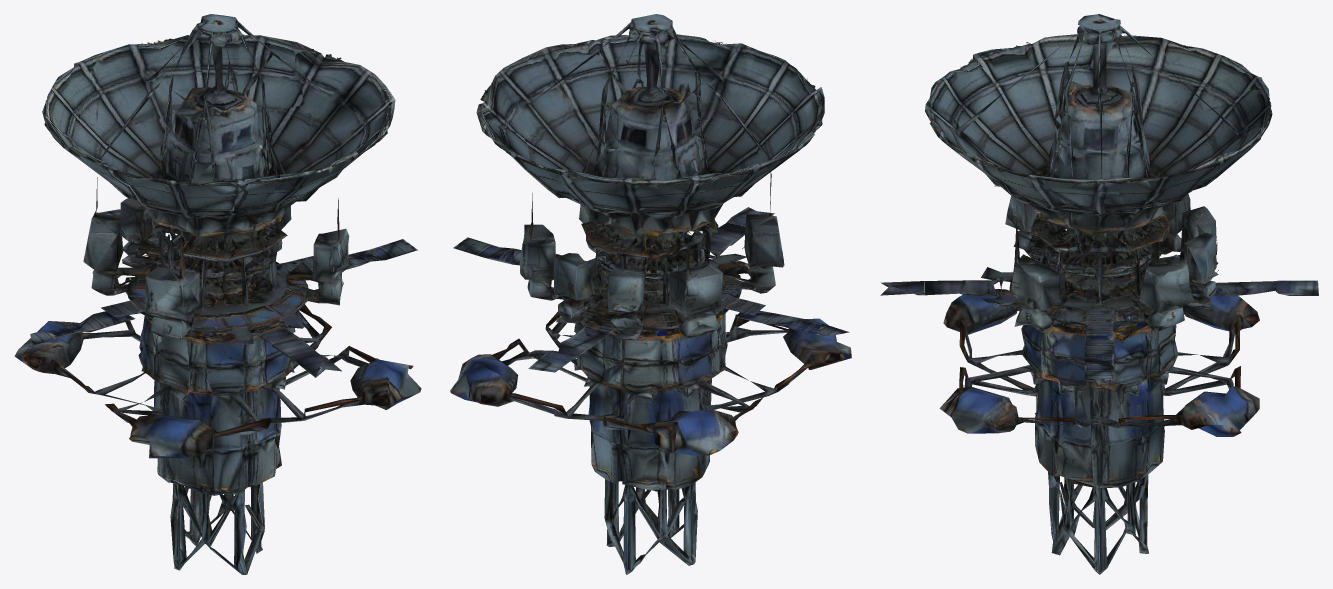
File: Terran_RelayStation.glb
3 renders of one model, left to right at view 1: azimuth 30°, elevation 25°; view 2: azimuth 150°, elevation 25°; view 3: azimuth 270°, elevation 25°, orthographic.
Size of the model in its own units: 1.39 by 1.86 by 1.39.
1 material, 1 textured.
